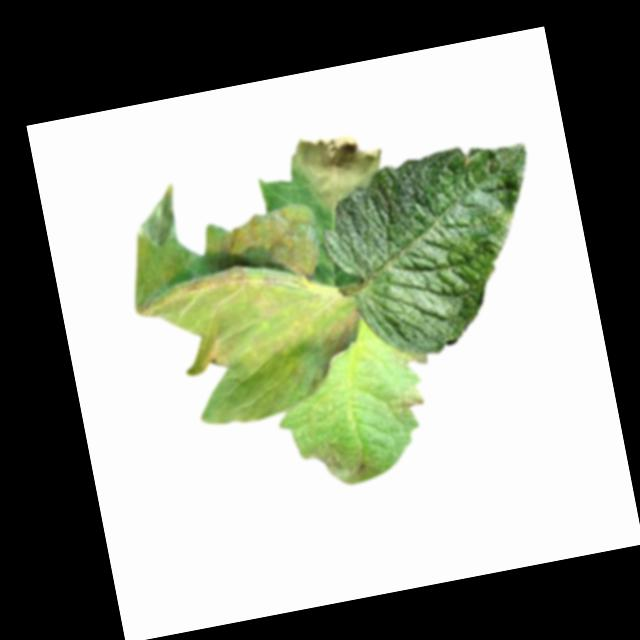Late_blight: (205, 200, 326, 299), (290, 120, 392, 214), (299, 305, 371, 389), (300, 429, 373, 493), (197, 336, 234, 373), (397, 391, 425, 411)
